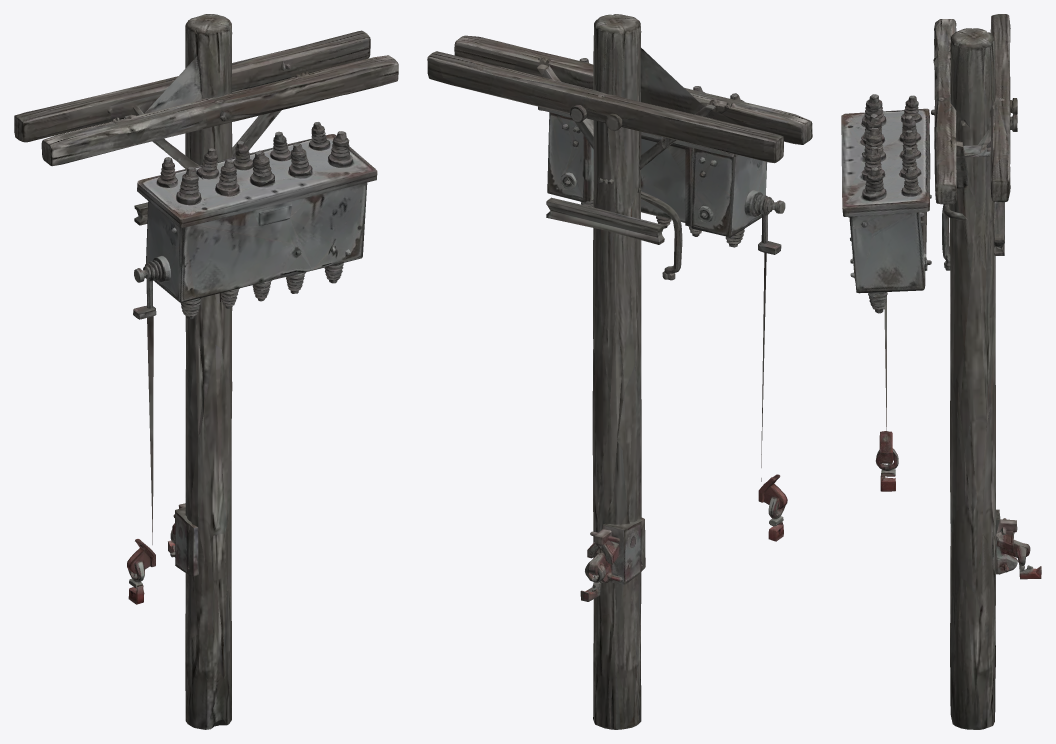
The model's file is gas_switch.glb.
3 views of the same model, side by side, from view 1: azimuth 30°, elevation 25°; view 2: azimuth 150°, elevation 25°; view 3: azimuth 270°, elevation 25° (orthographic). The views are drawn at different scales.
Bounding box in the file's own units: 0.9913 × 1.9 × 0.5039.
1 material, 1 textured.
